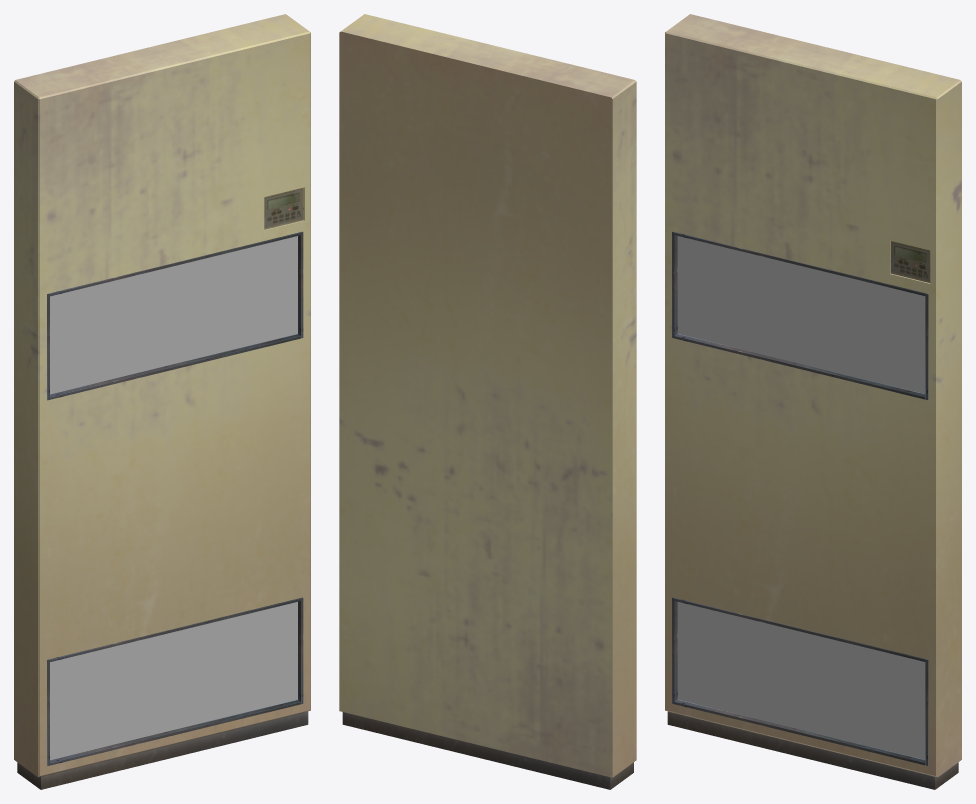
File: pub_aircon.fbx
The picture shows the model from 3 angles, left to right: view 1: azimuth 30°, elevation 25°; view 2: azimuth 150°, elevation 25°; view 3: azimuth 330°, elevation 25°; orthographic projection.
Parts seen in each view (by area): view 1: pub_aircon; view 2: pub_aircon; view 3: pub_aircon.
Boxes of the visible parts, x1,y1,x2,y2 form: pub_aircon: (14,14,310,789); pub_aircon: (339,14,636,789); pub_aircon: (665,14,961,789).
Bounding box in the file's own units: 95.96 × 233 × 15.34.
